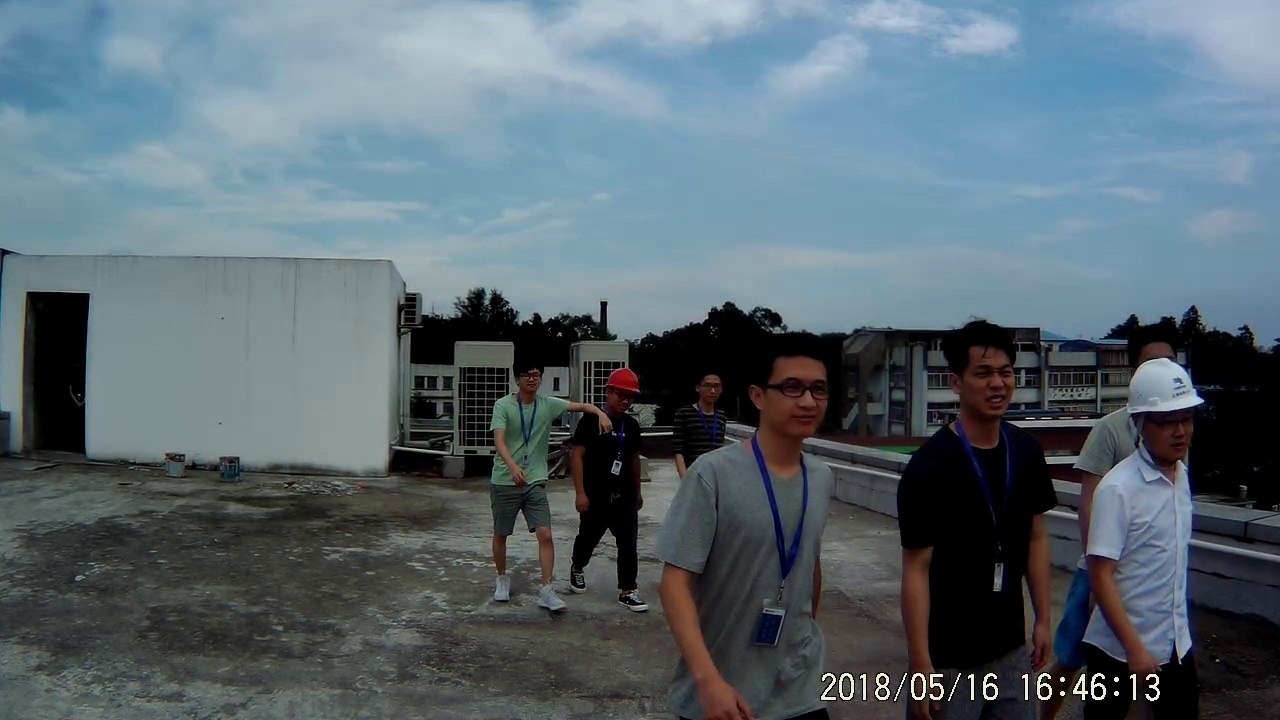none: (746, 333, 833, 450), (941, 314, 1020, 425), (506, 352, 547, 398), (693, 366, 727, 410)
red: (601, 364, 641, 416)
white: (1124, 352, 1204, 469)
